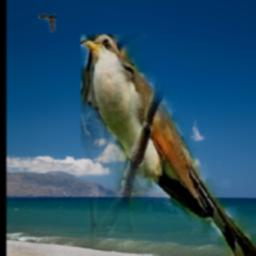Cuckoo: (81, 34, 256, 256), (38, 15, 57, 34)
